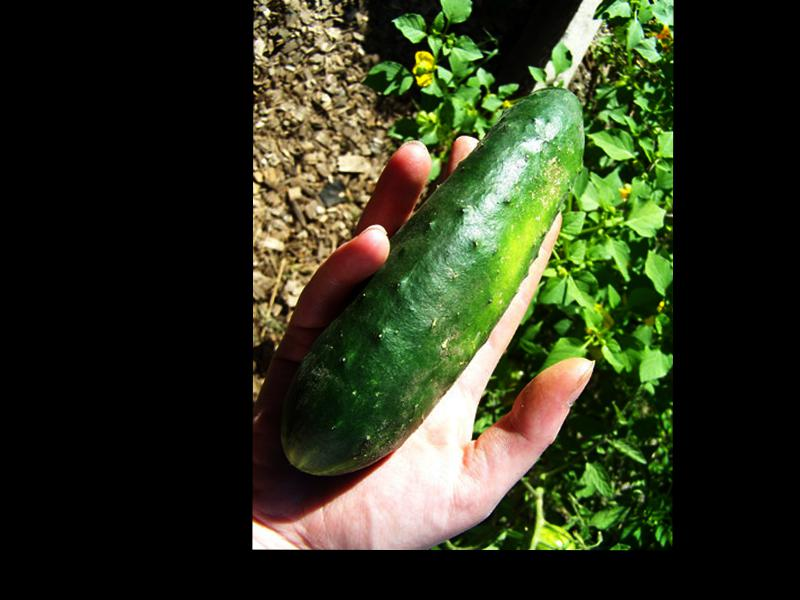Cucumber: (282, 85, 583, 474)
